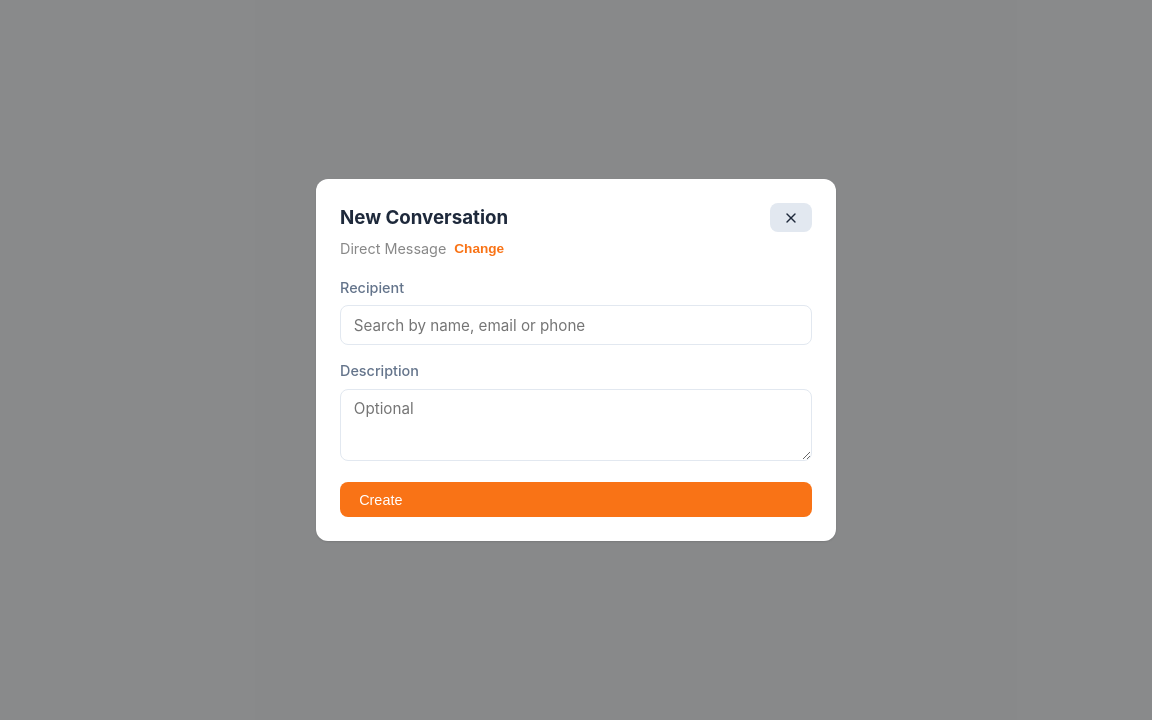
it: new conversation form › surfaces the server error rather than silently doing nothing
This screenshot has width=1152, height=720.
Type "Adeyemi" into the field with placeholder "Search by name, email or phone" at (576, 325), box [340,305,812,345]
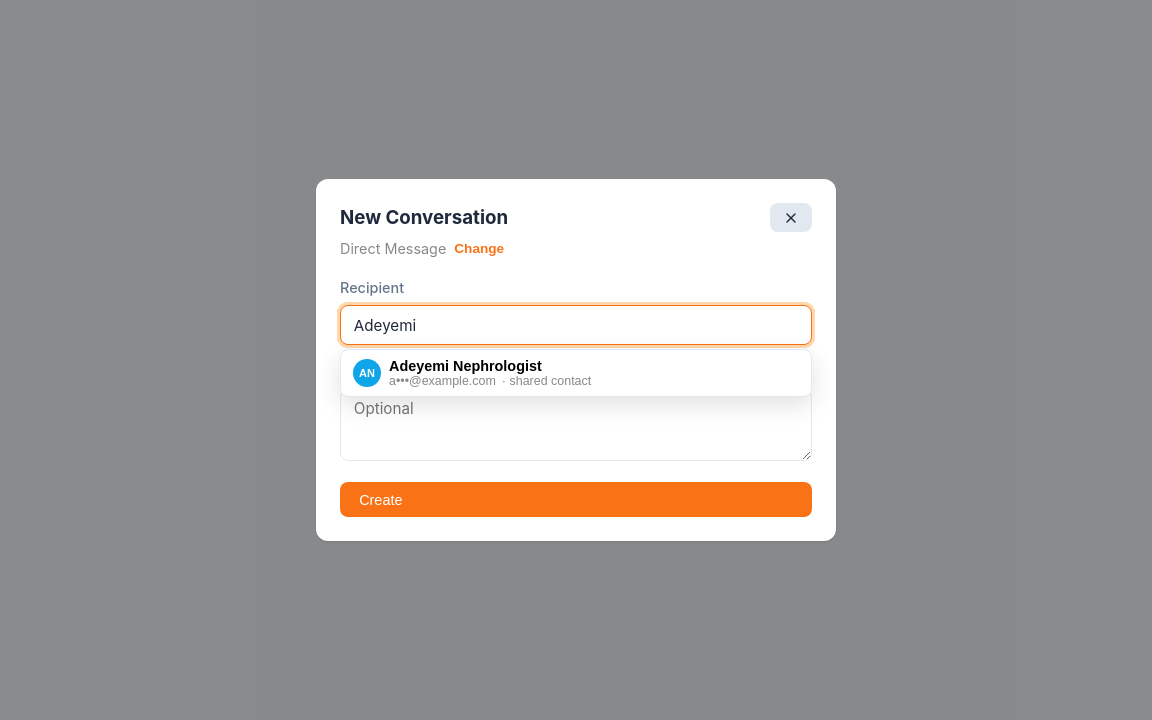
Click the text "Adeyemi Nephrologist" at (465, 366), box [389,358,542,374]
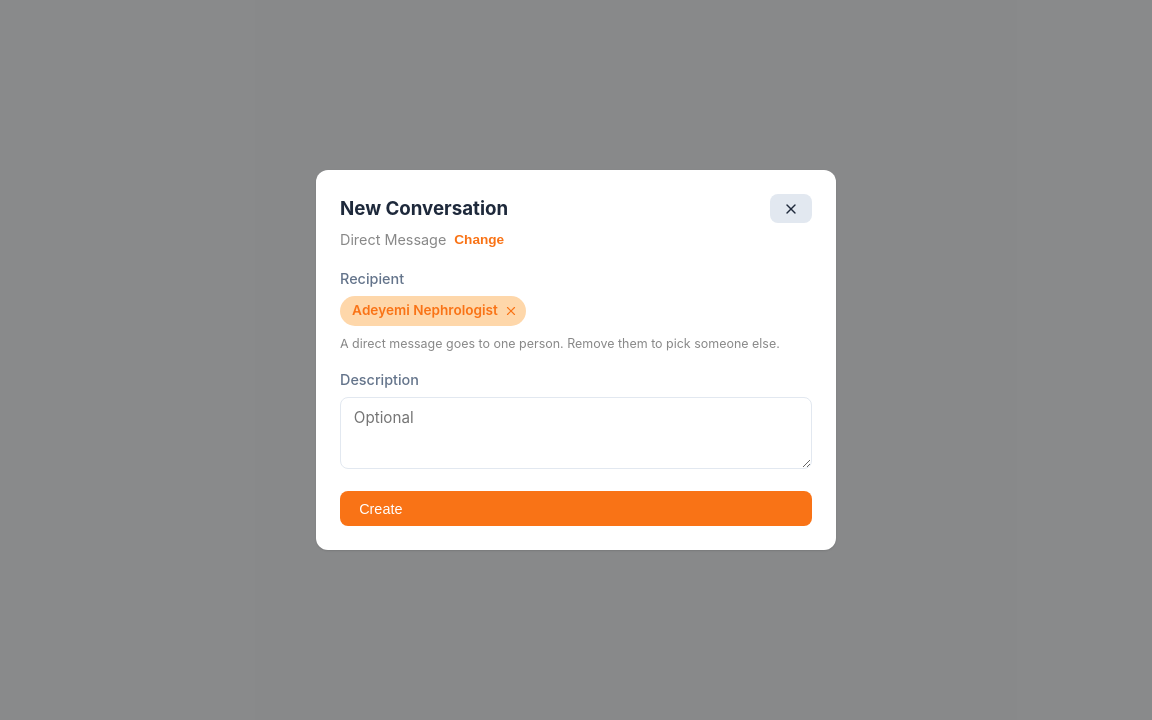
Click the button "Create" at (381, 509), box [340,491,812,526]
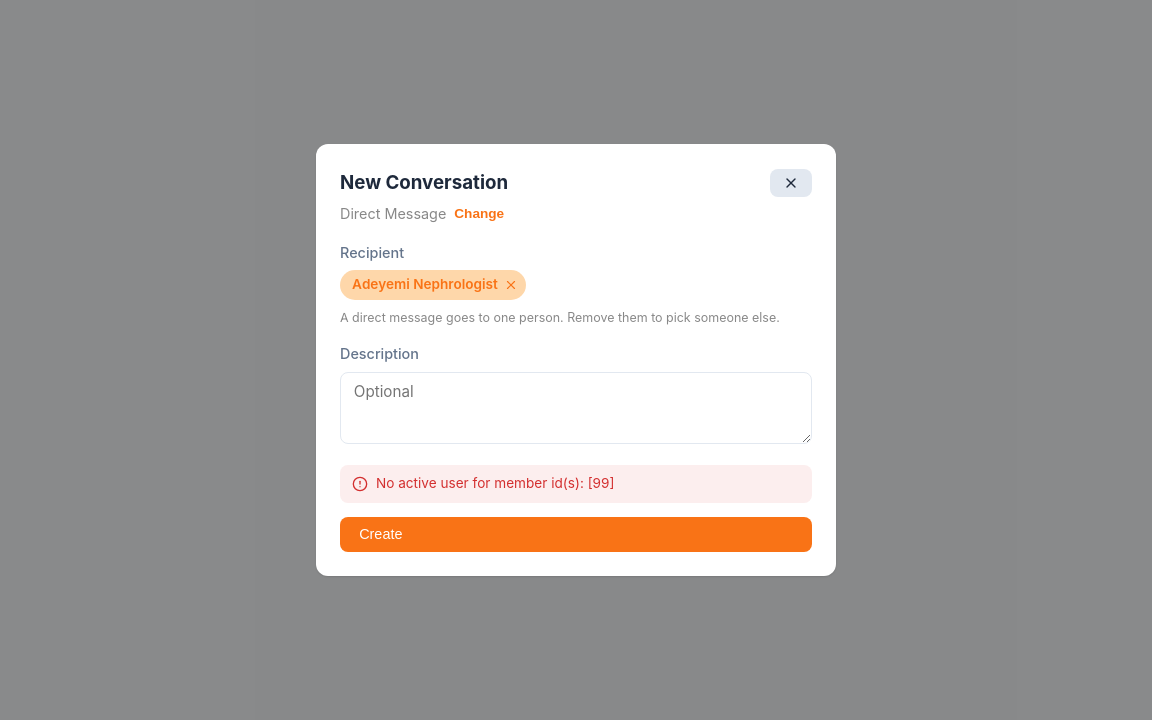
Expected: the text "No active user for member id(s): [99]" is shown, [340,465,812,503]
